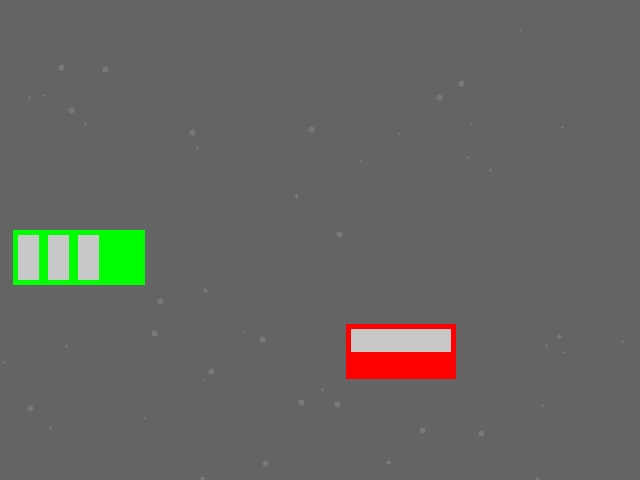bus: (13, 230, 144, 284)
car: (346, 324, 455, 378)
